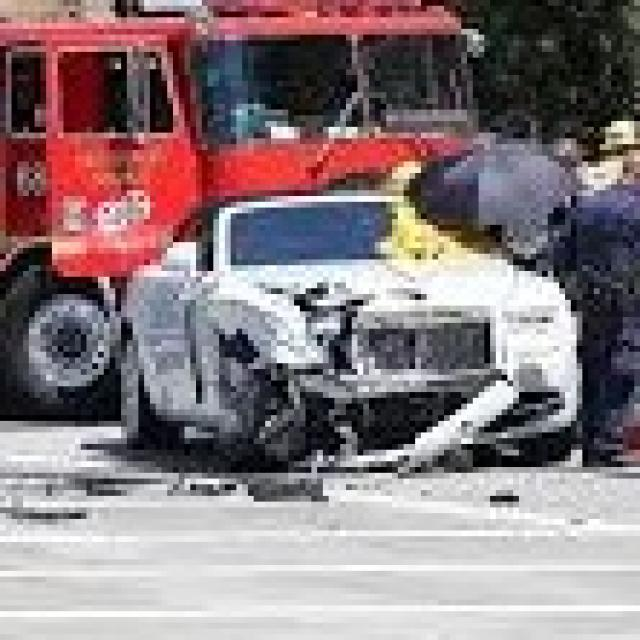severe: (80, 188, 612, 496)
